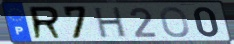0: (193, 6, 221, 39)
2: (129, 6, 159, 38)
7: (61, 5, 90, 41)
H: (94, 6, 128, 39)
O: (159, 6, 192, 39)
R: (28, 5, 65, 41)
